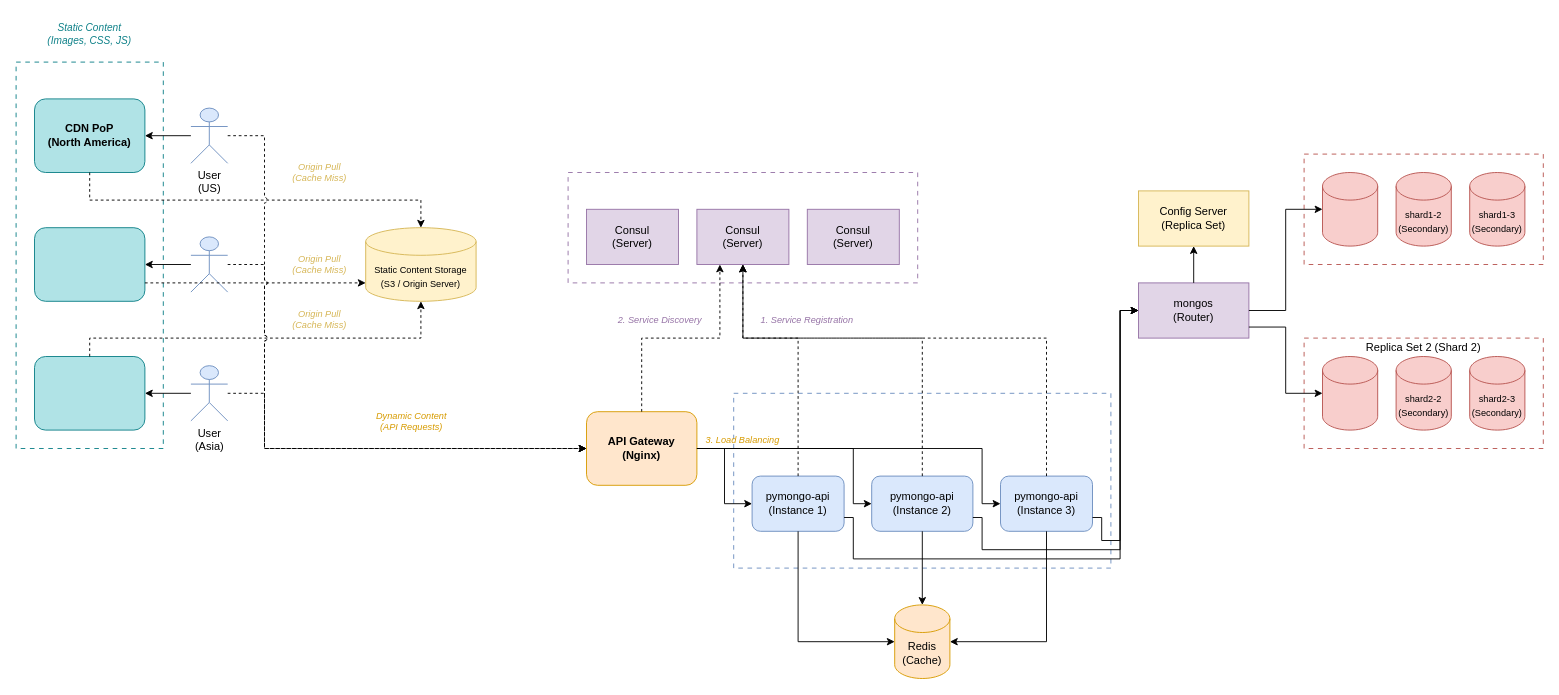
Image size: 1559x695. Some labels were removed from this diagram. Here are the shapes that lost their labels. From the top down, the box of each, then its label:
(567, 172, 918, 283): Consul Cluster (Service Discovery)
(1322, 172, 1378, 246): shard1-1 (Primary)
(1303, 153, 1543, 264): Replica Set 1 (Shard 1)
(15, 61, 163, 448): Global Edge Locations
(34, 227, 145, 301): CDN PoP (Europe)
(190, 236, 228, 292): User (EU)
(34, 356, 145, 430): CDN PoP (Asia-Pacific)
(1322, 356, 1378, 430): shard2-1 (Primary)
(733, 392, 1111, 568): Application Instances (Horizontal Scaling - 3 instances)
